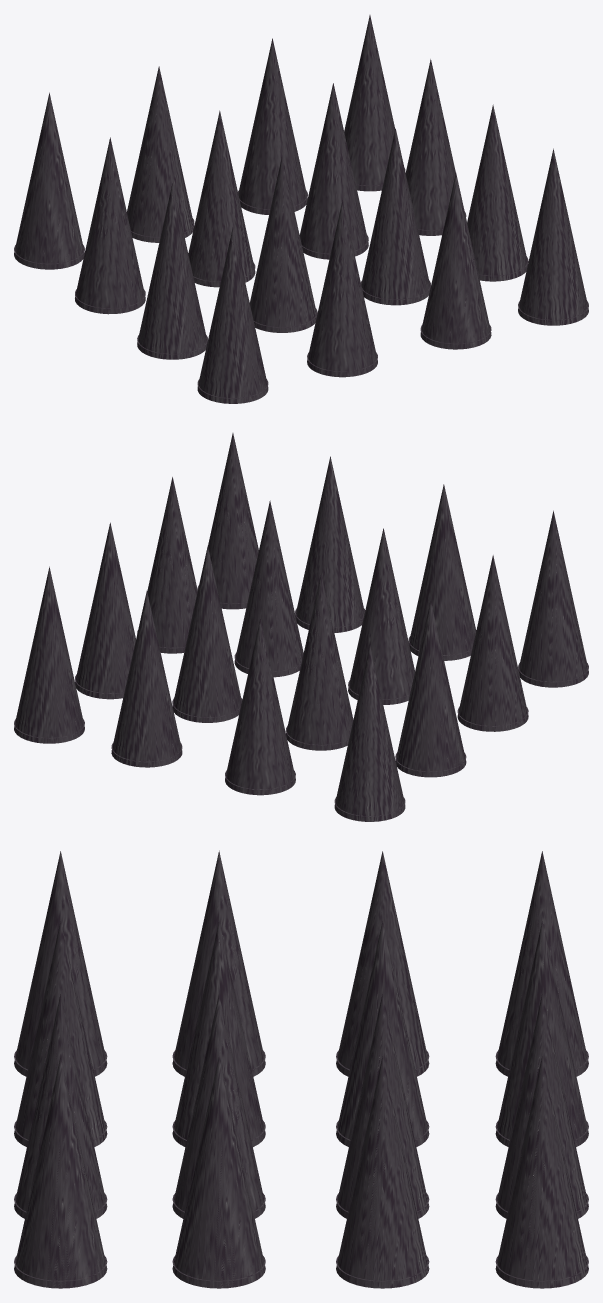
File: Kolce 1.fbx
3 renders of one model, top to bottom at view 1: azimuth 30°, elevation 25°; view 2: azimuth 150°, elevation 25°; view 3: azimuth 270°, elevation 25°, orthographic. The views are drawn at different scales.
Visible parts, largest first — view 1: Kolce, Dziury; view 2: Kolce, Dziury; view 3: Kolce, Dziury.
Part boxes in pixels (box(x1,y1,x2,y2)): Kolce: box(14, 15, 588, 403); Dziury: box(14, 168, 588, 398); Kolce: box(14, 433, 588, 821); Dziury: box(14, 585, 588, 816); Kolce: box(14, 850, 588, 1288); Dziury: box(14, 1050, 588, 1281).
Size of the model in its own units: 184 by 74.65 by 182.
